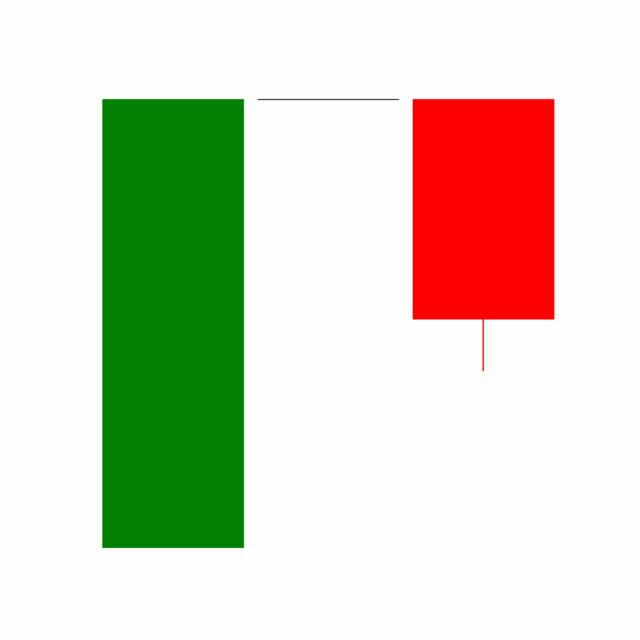Hammer: (250, 98, 405, 100)
